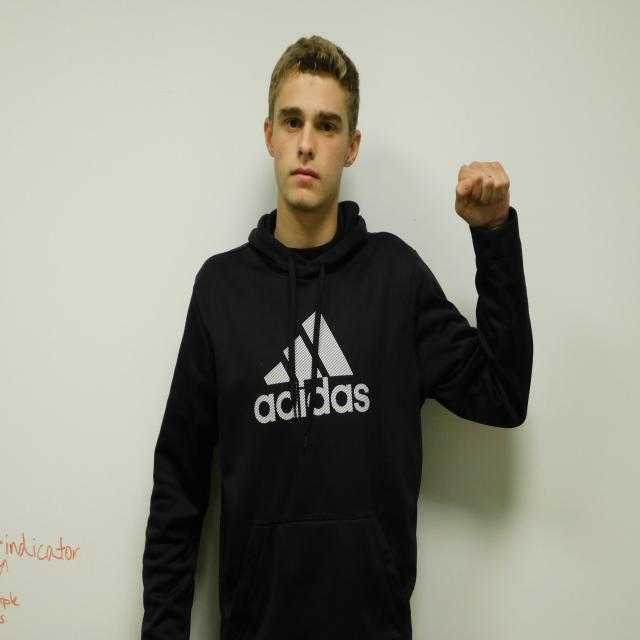yes: (455, 161, 511, 217)
